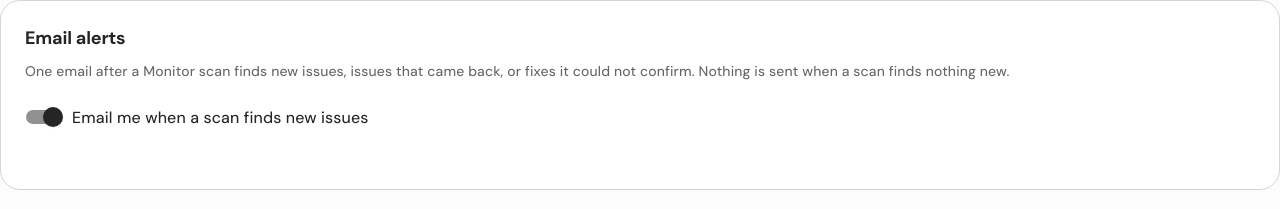
Test: ScanAlertsCard › turns alerts off and announces it
Click the switch labelled "Email me when a scan finds new issues": click(197, 117) [26, 107, 369, 128]
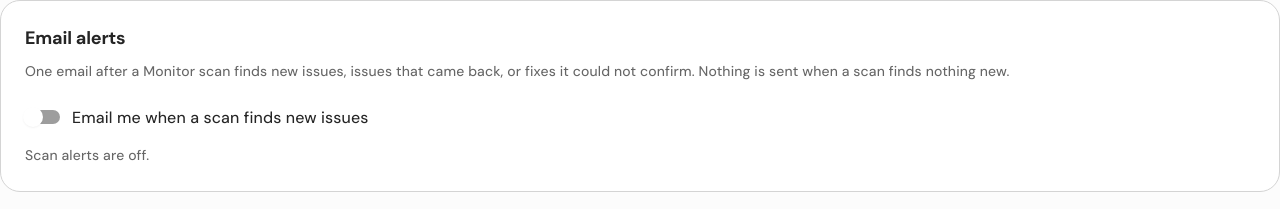
Expected: the switch labelled "Email me when a scan finds new issues" is not checked, [23, 107, 369, 128]
Expected: the message reads "Scan alerts are off.", [25, 146, 149, 164]
